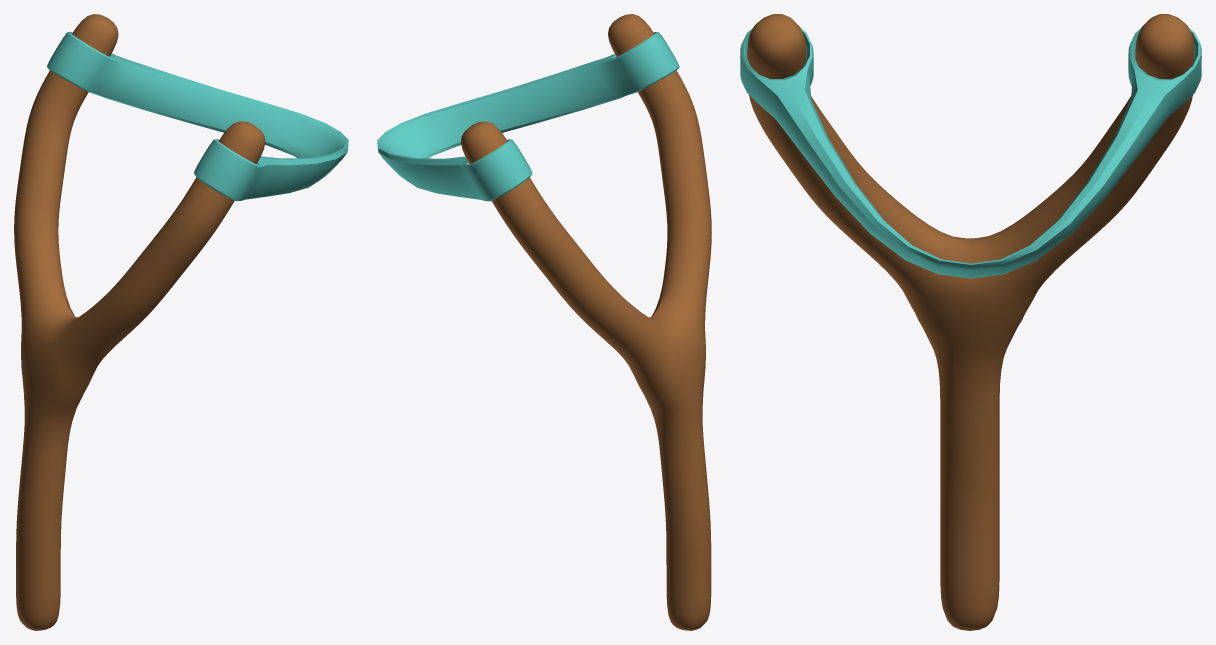
File: rogatka (2).fbx
3 renders of one model, left to right at view 1: azimuth 30°, elevation 25°; view 2: azimuth 150°, elevation 25°; view 3: azimuth 270°, elevation 25°, orthographic. The views are drawn at different scales.
Visible parts, largest first — view 1: Cube.001; view 2: Cube.001; view 3: Cube.001.
Boxes of the visible parts, x1,y1,x2,y2 form: Cube.001: [14, 14, 348, 630]; Cube.001: [377, 14, 711, 630]; Cube.001: [740, 14, 1201, 630].
Size of the model in its own units: 37.87 by 59.1 by 35.48.
